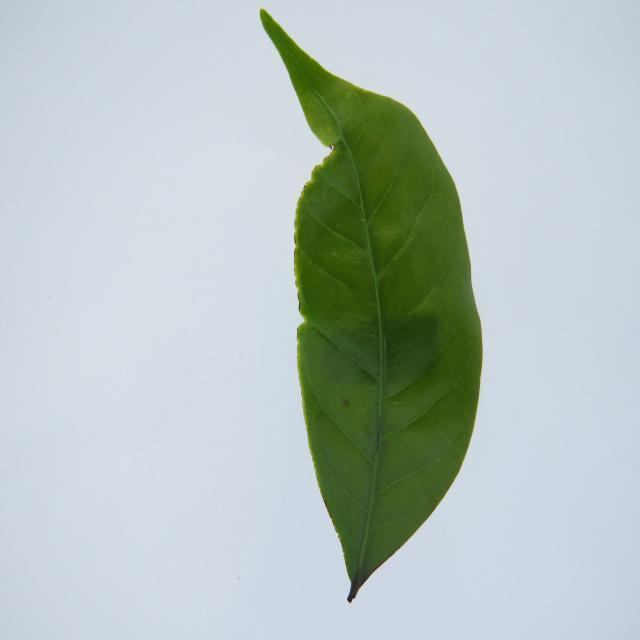DeficienciaNutricional-Calcio: (260, 10, 482, 602)
